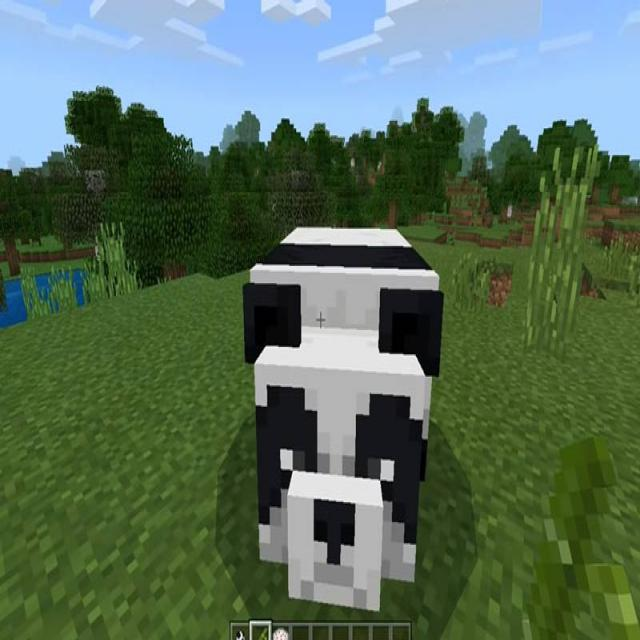Panda: (241, 224, 443, 609)
